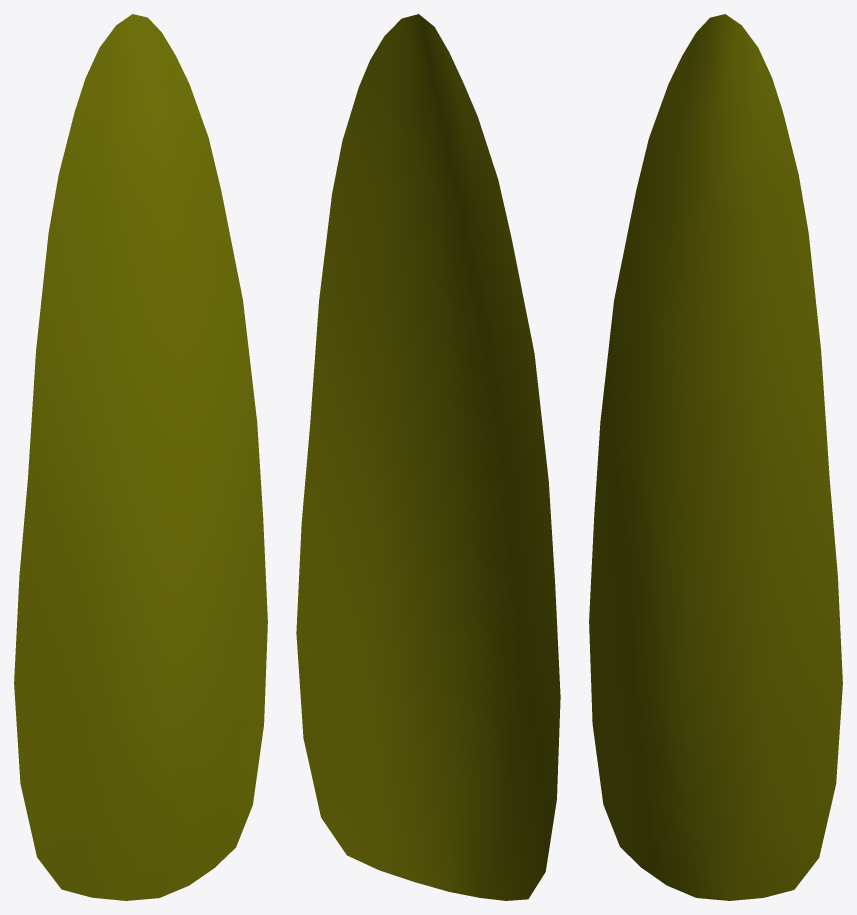
File: MD_nail_point_HandR.Middle.fbx
3 renders of one model, left to right at view 1: azimuth 30°, elevation 25°; view 2: azimuth 150°, elevation 25°; view 3: azimuth 330°, elevation 25°, orthographic. The views are drawn at different scales.
Parts seen in each view (by area): view 1: MD_nail_point_HandR.Middle; view 2: MD_nail_point_HandR.Middle; view 3: MD_nail_point_HandR.Middle.
Part boxes in pixels (left/top/right/bottom): MD_nail_point_HandR.Middle: left=14, top=14, right=267, bottom=900; MD_nail_point_HandR.Middle: left=296, top=14, right=560, bottom=900; MD_nail_point_HandR.Middle: left=589, top=14, right=842, bottom=900.
Size of the model in its own units: 0.7587 by 2.47 by 0.2005.
